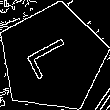L_NE: (23, 33, 82, 84)
